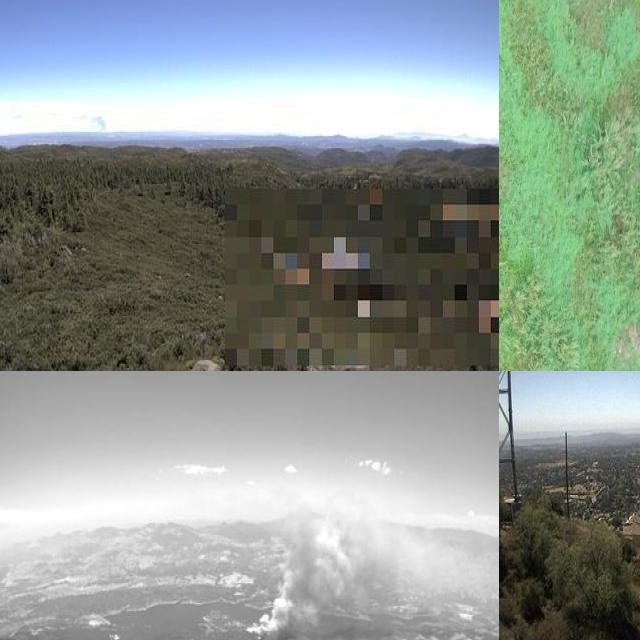smoke: (243, 486, 450, 638), (84, 110, 113, 134)
